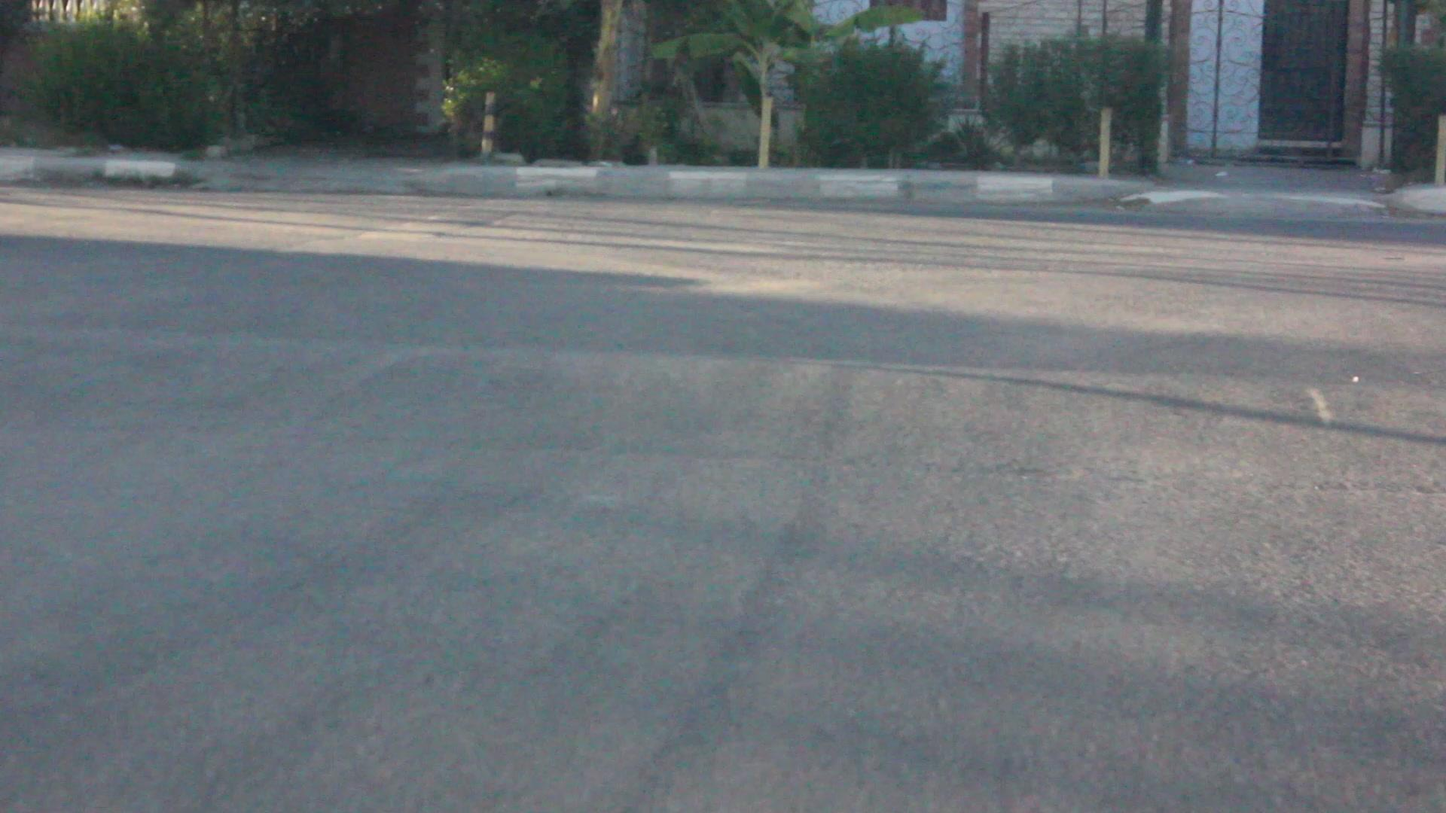Bump: (9, 314, 1446, 480)
